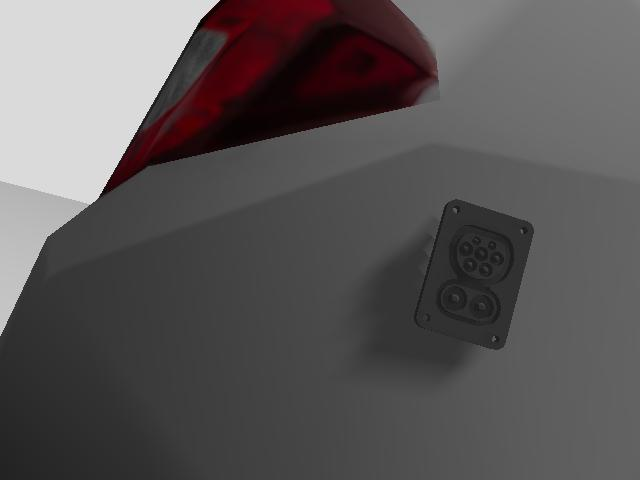EV-socket: (416, 202, 532, 349)
